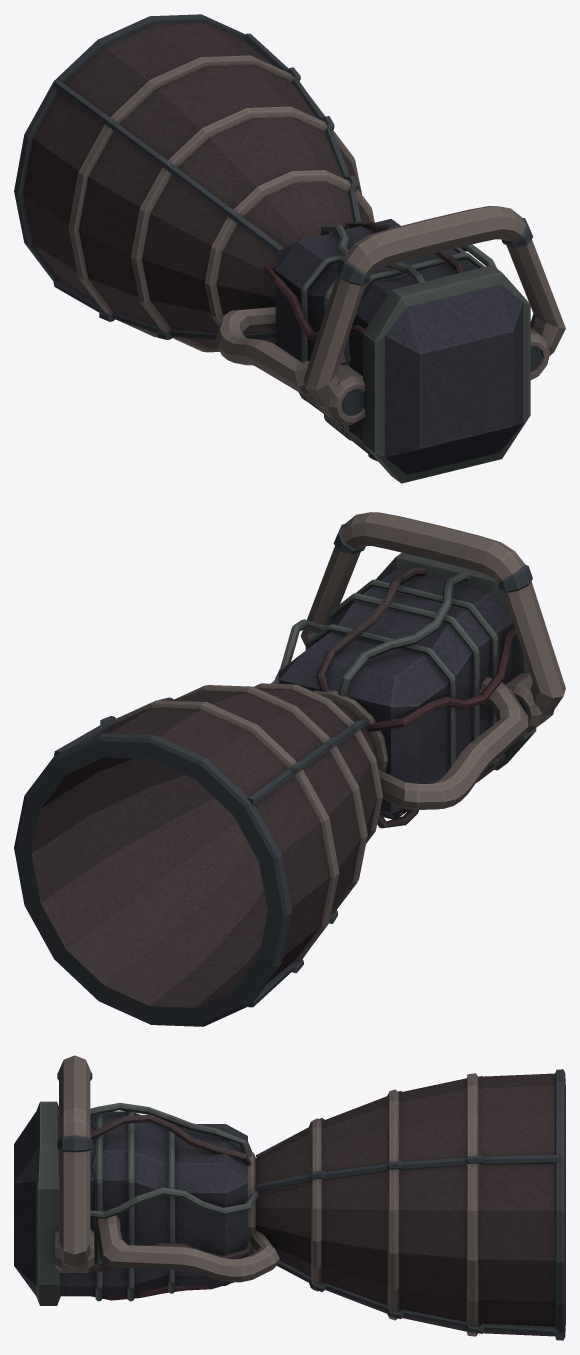
File: SpaceEngine.obj
3 views of the same model, one above another, from view 1: azimuth 30°, elevation 25°; view 2: azimuth 150°, elevation 25°; view 3: azimuth 270°, elevation 25° (orthographic). The views are drawn at different scales.
Parts seen in each view (by area): view 1: SpaceEngine_mesh; view 2: SpaceEngine_mesh; view 3: SpaceEngine_mesh.
Boxes of the visible parts, x1,y1,x2,y2 form: SpaceEngine_mesh: (14,14,565,483); SpaceEngine_mesh: (14,512,565,1026); SpaceEngine_mesh: (14,1055,565,1340).
Size of the model in its own units: 9.4 by 9.5 by 19.11.
